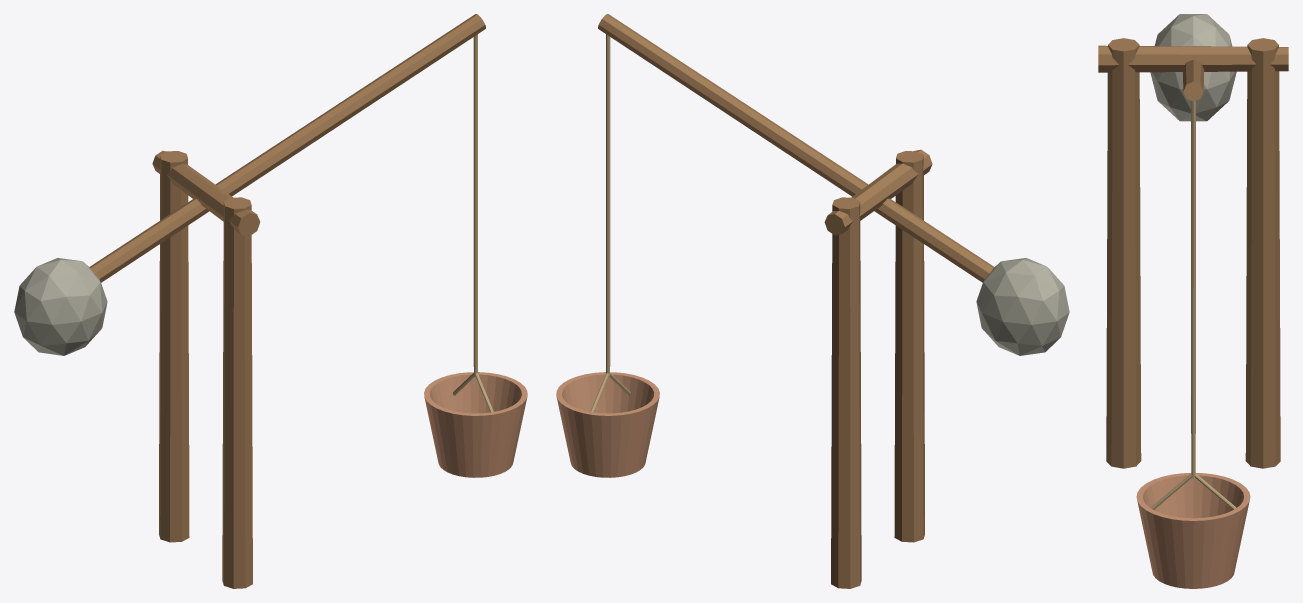
3 renders of one model, left to right at view 1: azimuth 30°, elevation 25°; view 2: azimuth 150°, elevation 25°; view 3: azimuth 270°, elevation 25°, orthographic. The views are drawn at different scales.
Parts seen in each view (by area): view 1: CE-030 Counterweighted brine lifting lever batched; view 2: CE-030 Counterweighted brine lifting lever batched; view 3: CE-030 Counterweighted brine lifting lever batched.
Boxes of the visible parts, x1,y1,x2,y2 form: CE-030 Counterweighted brine lifting lever batched: (14, 14, 527, 588); CE-030 Counterweighted brine lifting lever batched: (556, 14, 1069, 588); CE-030 Counterweighted brine lifting lever batched: (1098, 14, 1288, 588).
Bounding box in the file's own units: 2 × 1.83 × 0.6.
